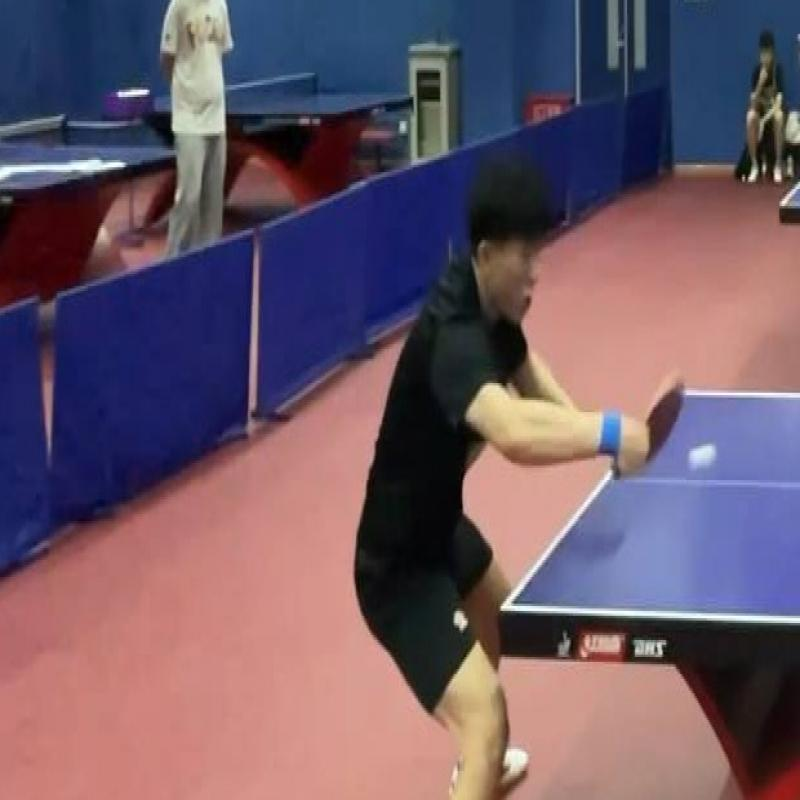bats: (631, 371, 690, 480)
